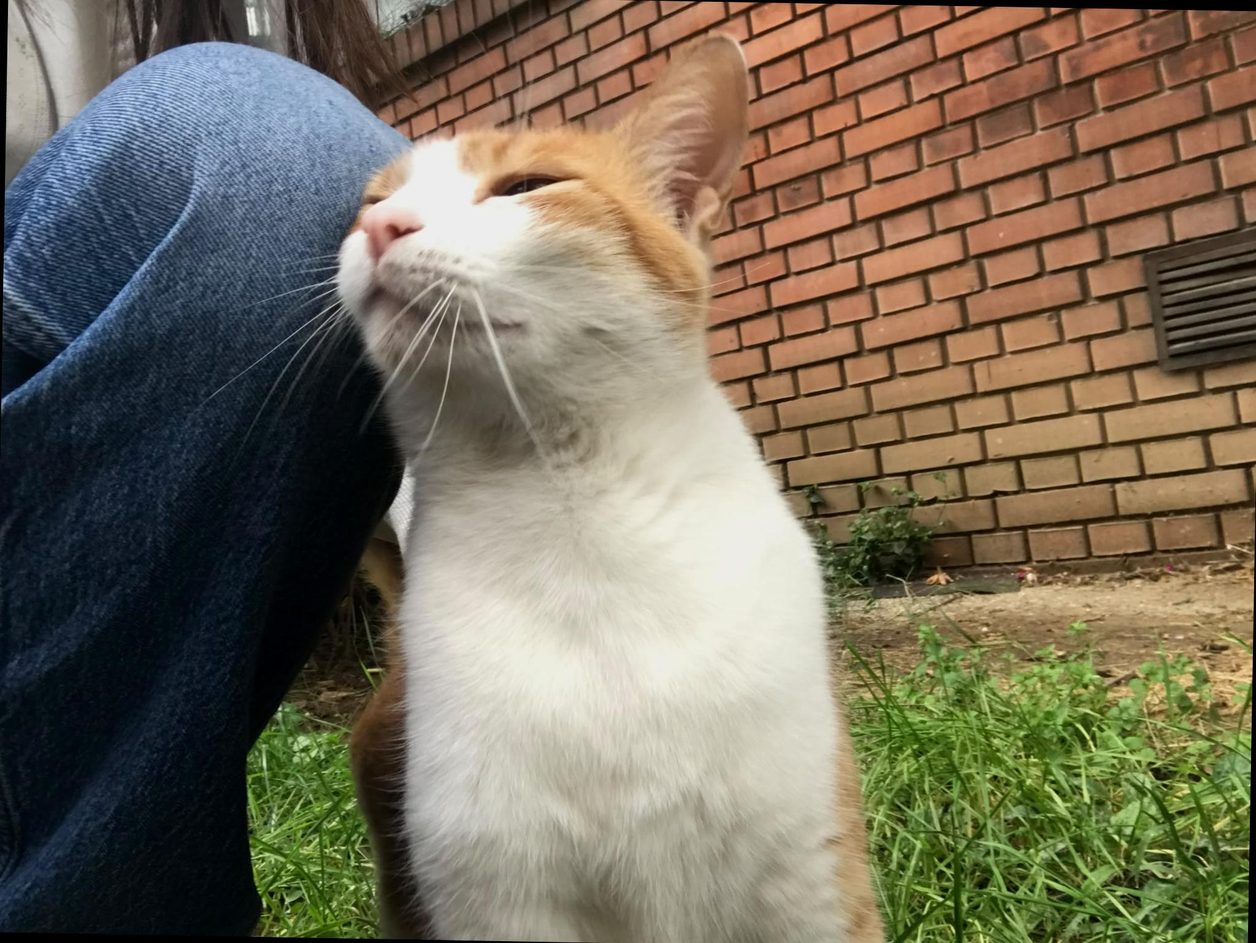macka: (320, 24, 903, 943)
